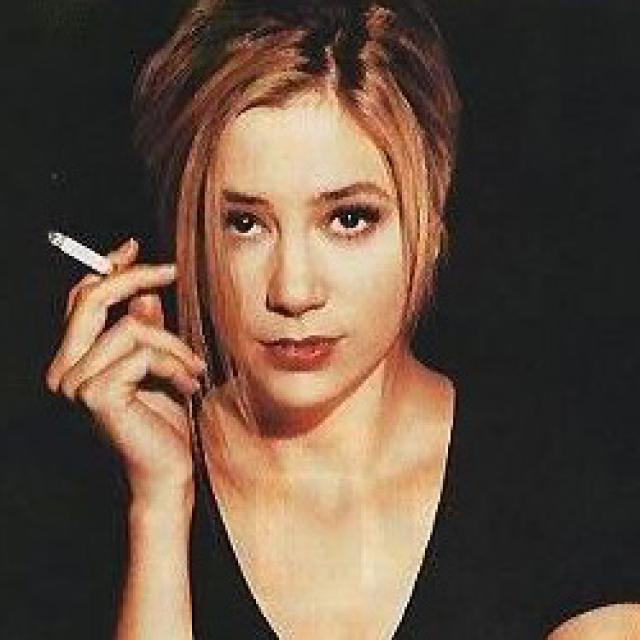Smooking: (42, 214, 134, 276)
